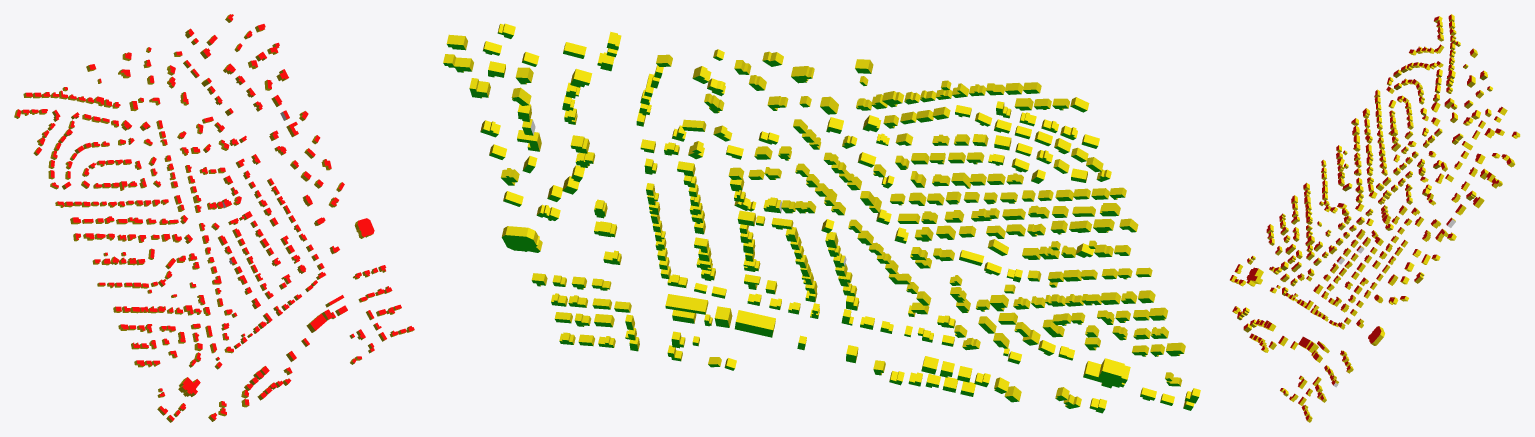
3 renders of one model, left to right at view 1: azimuth 30°, elevation 25°; view 2: azimuth 150°, elevation 25°; view 3: azimuth 270°, elevation 25°, orthographic. The views are drawn at different scales.
Visible parts, largest first — view 1: mesh; view 2: mesh; view 3: mesh.
Part boxes in pixels (x1,y1,x2,y2): mesh: (14, 14, 414, 422); mesh: (443, 23, 1200, 413); mesh: (1230, 14, 1520, 422).
Size of the model in its own units: 1096 by 846 by 842.
